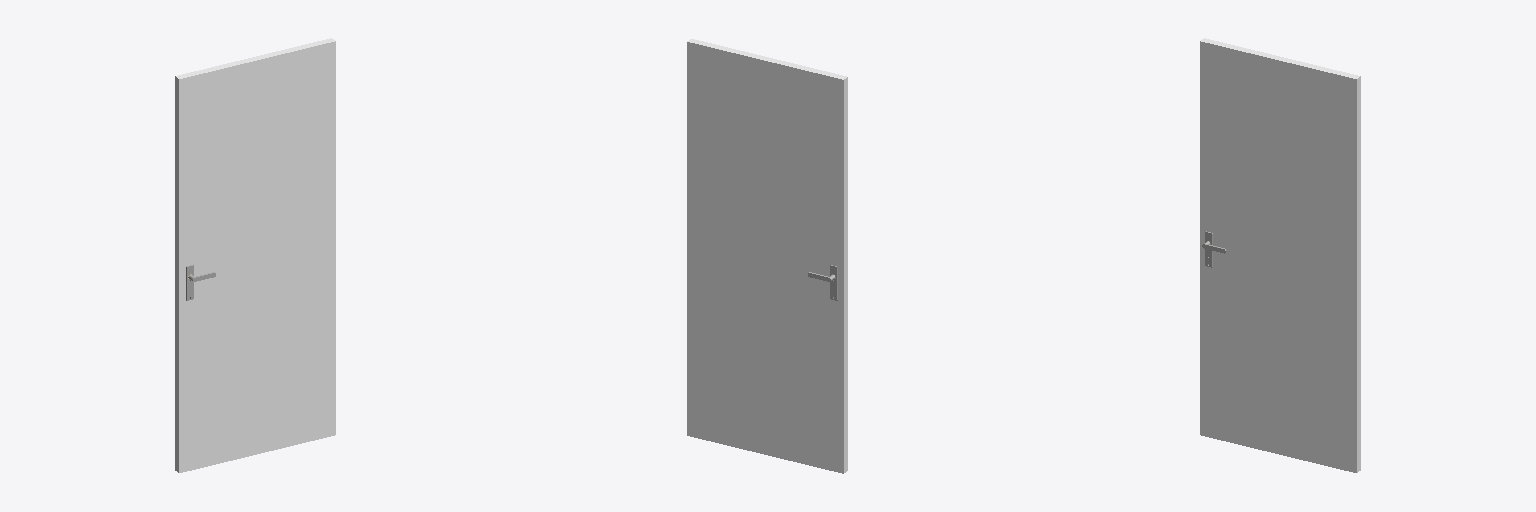
File: door.obj
3 views of the same model, side by side, from view 1: azimuth 30°, elevation 25°; view 2: azimuth 150°, elevation 25°; view 3: azimuth 330°, elevation 25° (orthographic).
Parts seen in each view (by area): view 1: Mesh3 Model; view 2: Mesh3 Model; view 3: Mesh3 Model.
Part boxes in pixels (left/top/right/bottom): Mesh3 Model: left=175, top=38, right=335, bottom=472; Mesh3 Model: left=687, top=39, right=847, bottom=473; Mesh3 Model: left=1200, top=38, right=1360, bottom=472.
Size of the model in its own units: 0.84 by 2.02 by 0.135.